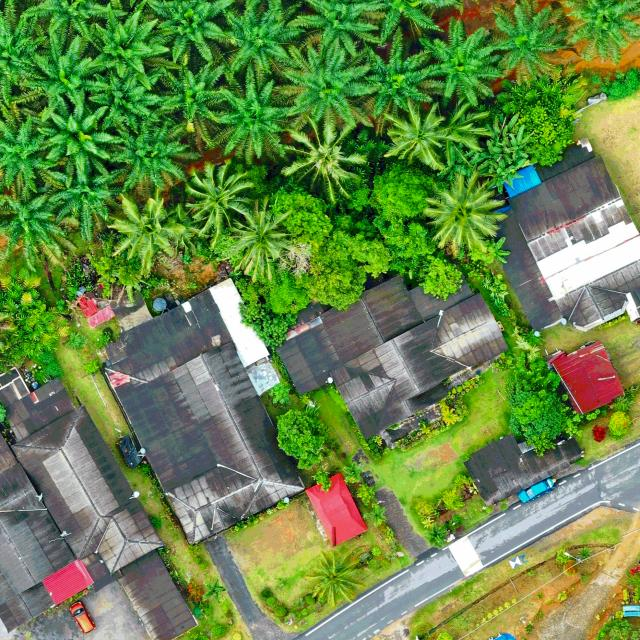Tree: (494, 63, 590, 166), (278, 36, 383, 126), (200, 70, 298, 164), (359, 20, 442, 121), (32, 91, 120, 186), (27, 30, 118, 121), (280, 114, 366, 207), (418, 18, 503, 108), (41, 163, 133, 246), (503, 346, 571, 458), (0, 267, 69, 376), (485, 0, 572, 85), (217, 2, 308, 82), (114, 116, 204, 195), (279, 0, 392, 62), (108, 189, 190, 273), (0, 188, 82, 272), (420, 172, 506, 252), (230, 194, 301, 286), (91, 1, 171, 80), (424, 88, 498, 170), (143, 0, 236, 65), (181, 160, 253, 236), (14, 0, 130, 45), (0, 1, 48, 108), (232, 275, 301, 348), (157, 57, 230, 126), (87, 66, 164, 130), (562, 0, 640, 62), (0, 108, 53, 197), (382, 96, 446, 166), (308, 238, 368, 311), (485, 112, 537, 195), (371, 216, 432, 282), (306, 546, 367, 608), (368, 163, 436, 216), (273, 185, 330, 245), (275, 408, 330, 470), (418, 255, 465, 297), (606, 410, 632, 440)
